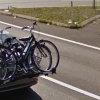Bicycle: (3, 19, 63, 90)
